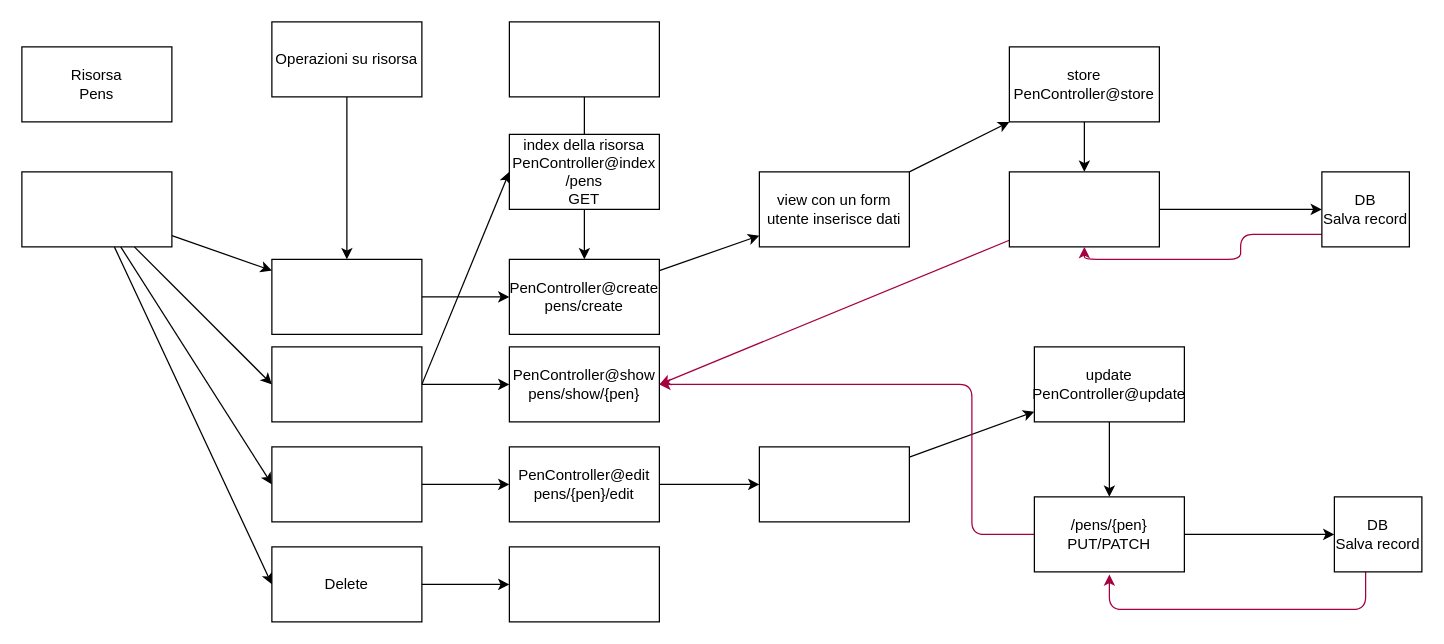
This 1444x644 diagram has some shape labels left out. The centre of each missing label's shape, as x and y in pixels:
/pens POST: (1083,209)
Create: (346,296)
CRUD: (96,209)
Read: (346,384)
Rotte: (583,59)
Update: (346,484)
view con form che richiama i dati dal DB: (833,484)
